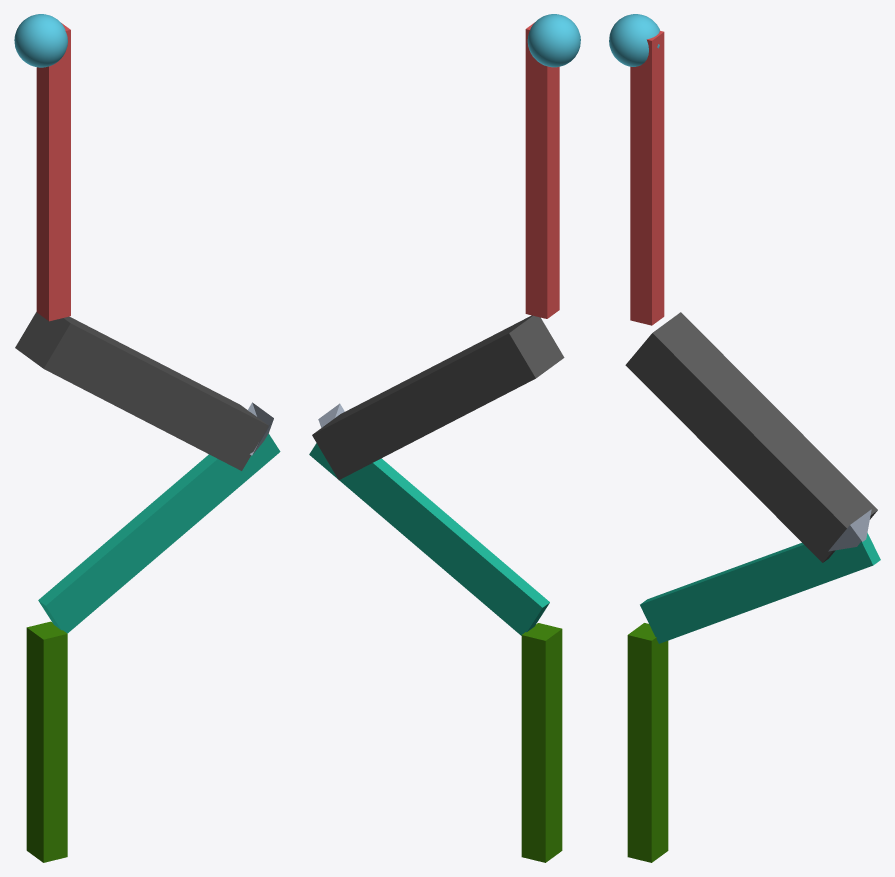
The model's file is simple_000_Bones_00.dae.
3 views of the same model, side by side, from view 1: azimuth 30°, elevation 25°; view 2: azimuth 150°, elevation 25°; view 3: azimuth 330°, elevation 25° (orthographic).
Visible parts, largest first — view 1: Box03, Box02, Box01, Box04, Sphere01; view 2: Box03, Box02, Box01, Box04, Sphere01; view 3: Box03, Box02, Box04, Box01, Sphere01, Bone03.
Boxes of the visible parts, x1,y1,x2,y2 form: Box03: [15, 312, 268, 470]; Box02: [38, 433, 280, 633]; Box01: [26, 621, 67, 862]; Box04: [36, 23, 70, 321]; Sphere01: [14, 14, 67, 67]; Box03: [312, 315, 564, 479]; Box02: [309, 443, 549, 635]; Box01: [521, 623, 562, 862]; Box04: [525, 22, 559, 318]; Sphere01: [527, 14, 580, 67]; Box03: [625, 312, 877, 562]; Box02: [640, 533, 880, 643]; Box04: [630, 31, 664, 325]; Box01: [627, 623, 668, 862]; Sphere01: [609, 14, 659, 66]; Bone03: [828, 509, 871, 551].
Size of the model in its own units: 2727 by 644 by 8364.
